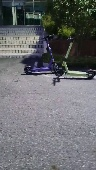beam: (23, 34, 63, 73)
gcooter: (54, 36, 96, 78)
